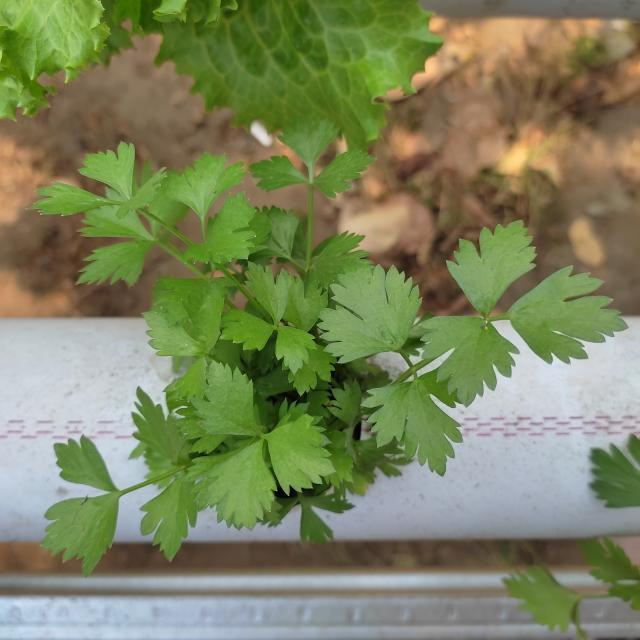Wet Waste: (133, 33, 586, 603)
